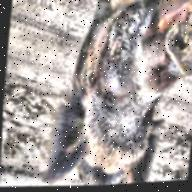boar: (41, 0, 192, 189)
